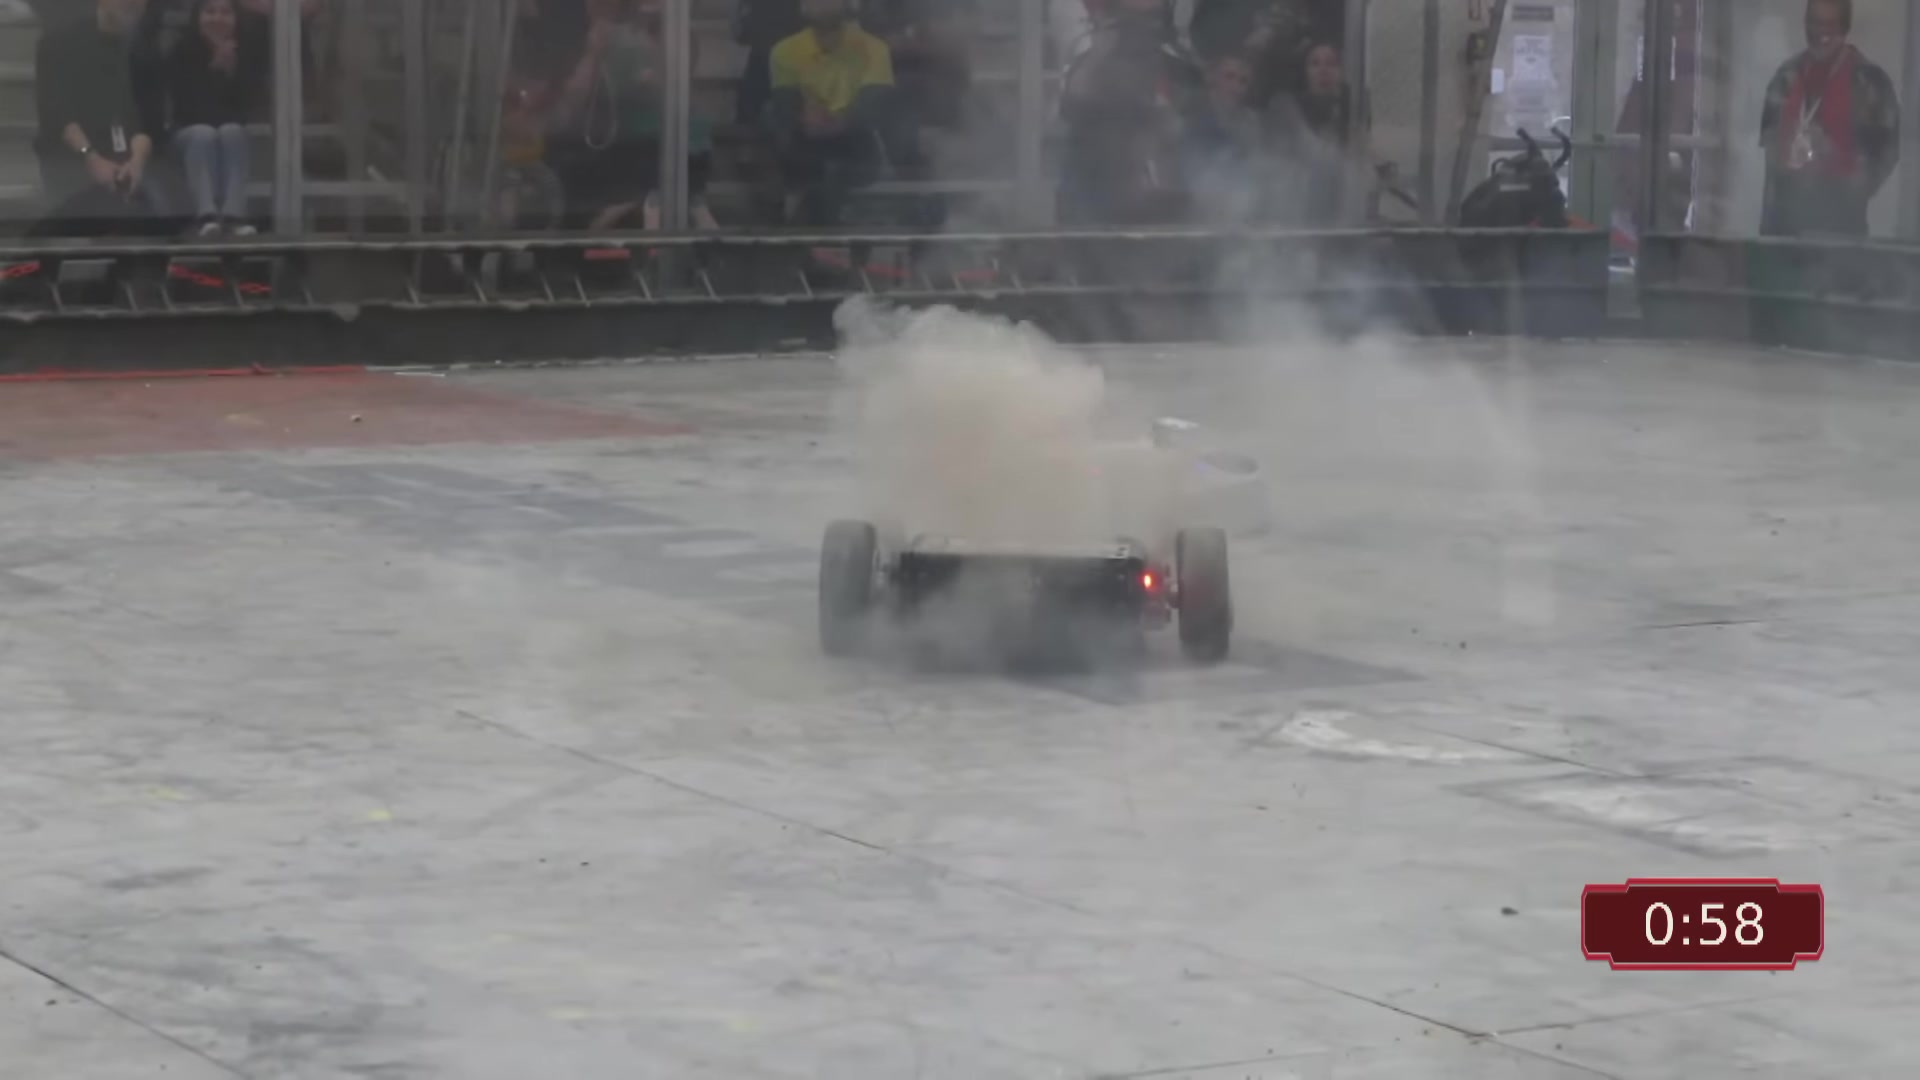combatbot: (819, 510, 1226, 671), (1052, 415, 1271, 534)
